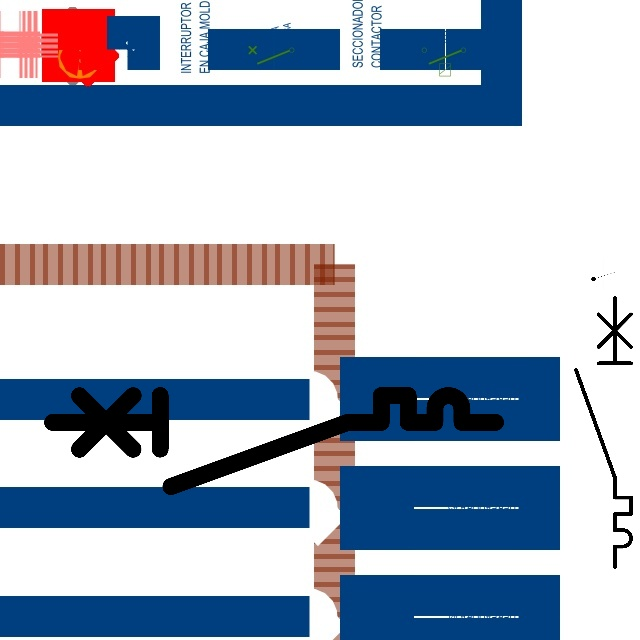interruptor_termomagnetico: (41, 384, 507, 498), (569, 291, 638, 574)
